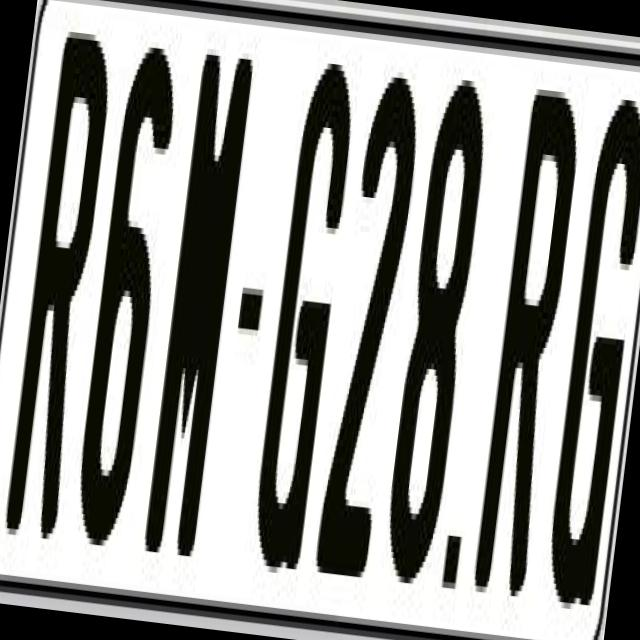2: (311, 68, 429, 578)
6: (70, 27, 184, 530)
8: (376, 76, 491, 592)
G: (245, 61, 362, 576), (543, 79, 640, 599)
M: (139, 42, 259, 574)
R: (468, 82, 586, 614), (2, 19, 122, 534)
